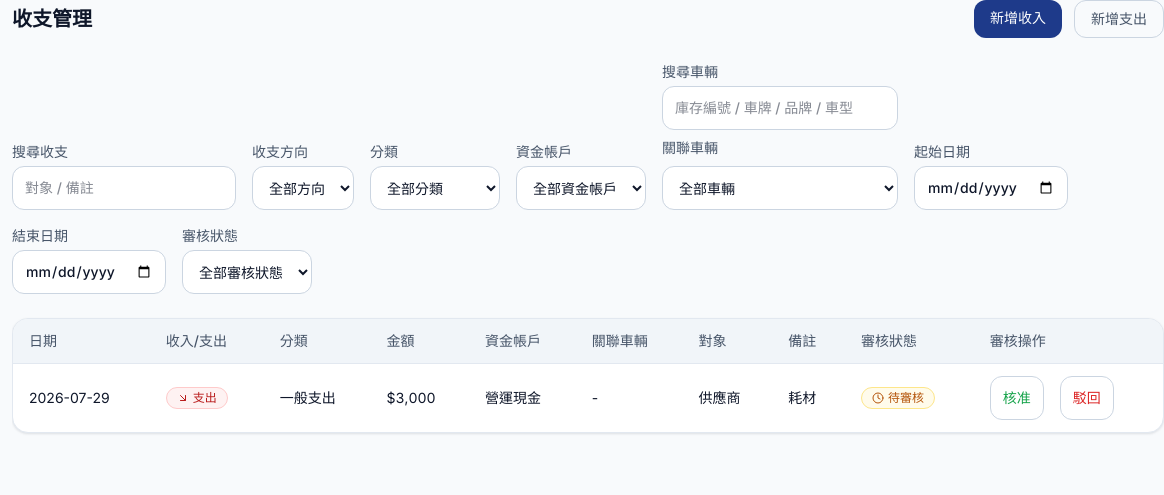
it: Money entry presentation › keeps approval status and admin approve/reject outcomes
Check: the text "耗材" is shown, box [788,389,816,406]
Check: the text "待審核" is shown, box [861,387,935,409]
What coordinates should you click on to do the following:
click the button "核准 "
I would click on:
 (1017, 398)
Its box is [990,376,1044,420].
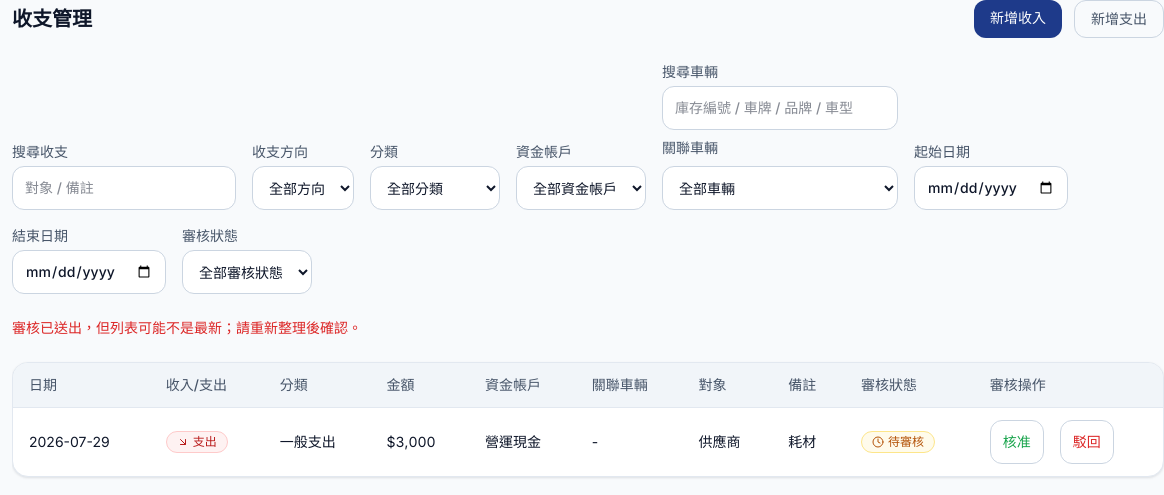
Check: the text "待審核" is shown, box [861,431,935,453]
Check: the message reads "審核已送出，但列表可能不是最新；請重新整理後確認。", box [12,319,362,336]
